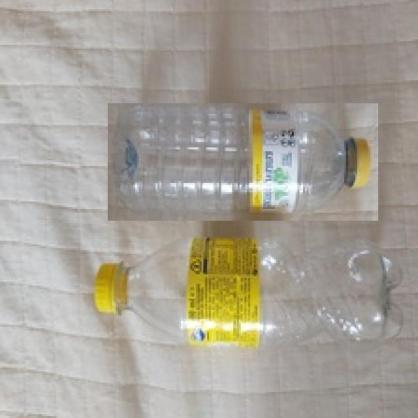bottle: (89, 230, 402, 358), (108, 103, 378, 221)
cap: (91, 261, 130, 312), (346, 138, 371, 190)
label: (191, 224, 262, 355), (252, 110, 303, 214)
